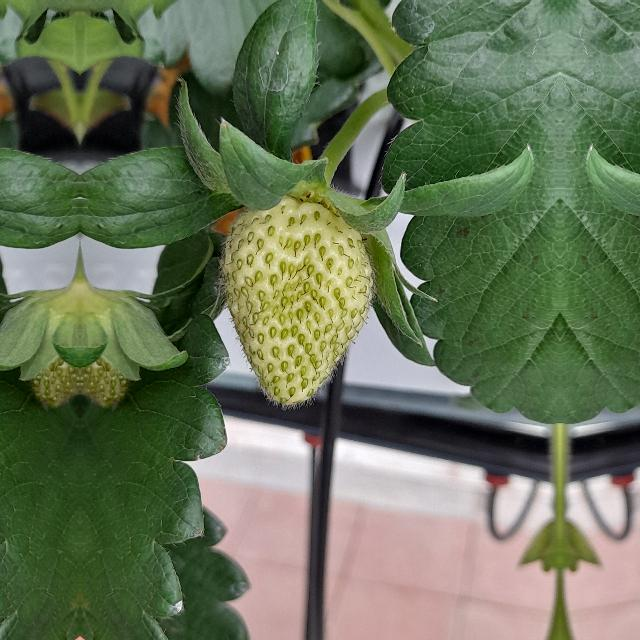Health_25: (223, 195, 373, 405), (80, 281, 148, 403), (12, 281, 80, 403)
